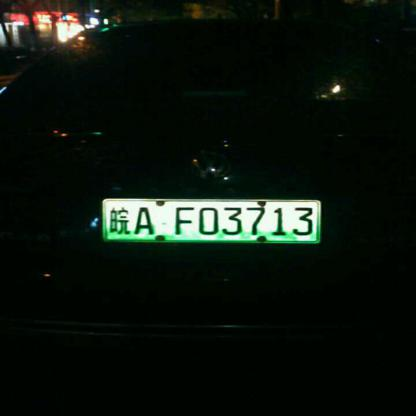lp: (104, 199, 318, 240)
